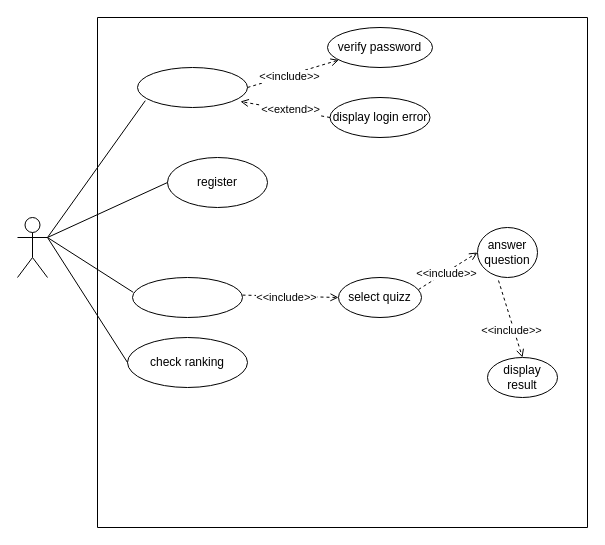
The diagram is 605 pixels wide and 545 high, and some of its shapes have lost their labels. The centre of each missing label's shape, as x and y in pixels:
"Actor" goes at (32,247).
"login" goes at (192,87).
"take quizzes" goes at (187,297).
